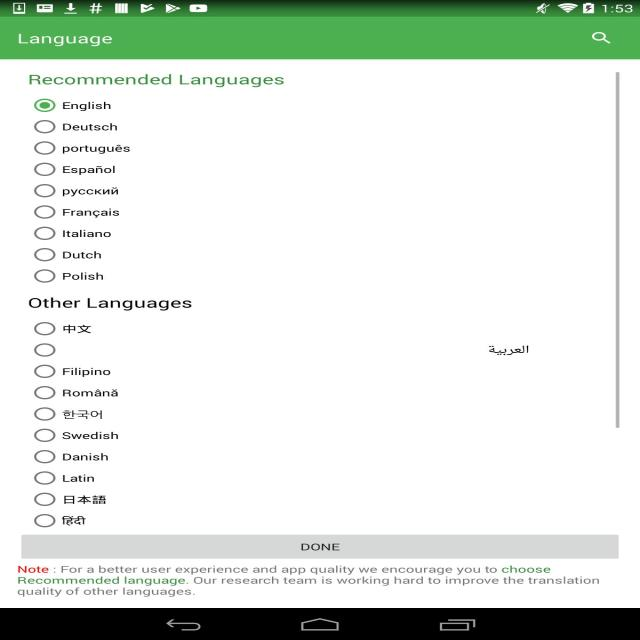button: (21, 534, 620, 559), (592, 29, 617, 49), (31, 470, 58, 486), (30, 268, 56, 284), (32, 513, 57, 528), (35, 321, 58, 337), (34, 246, 56, 262), (36, 342, 58, 358), (33, 184, 56, 198), (34, 205, 56, 219), (34, 428, 56, 442), (33, 119, 54, 133), (33, 364, 54, 378), (34, 163, 56, 176), (32, 226, 54, 239), (35, 98, 55, 112), (35, 449, 55, 463), (34, 406, 54, 419), (36, 493, 55, 506), (34, 142, 54, 154), (36, 386, 54, 399)
heading: (24, 74, 287, 88), (21, 294, 202, 314), (13, 29, 121, 49)
label: (60, 207, 124, 219), (59, 186, 122, 198), (61, 144, 135, 154), (58, 121, 124, 132), (61, 494, 112, 507), (59, 100, 114, 112), (59, 430, 124, 440), (59, 388, 122, 398), (61, 409, 108, 422), (59, 229, 116, 239), (59, 165, 122, 174), (60, 368, 121, 377), (485, 344, 533, 355), (60, 452, 112, 462), (58, 272, 109, 282), (58, 250, 108, 260), (64, 323, 96, 338), (56, 474, 102, 484), (58, 516, 89, 528)
text: (13, 564, 604, 597)
